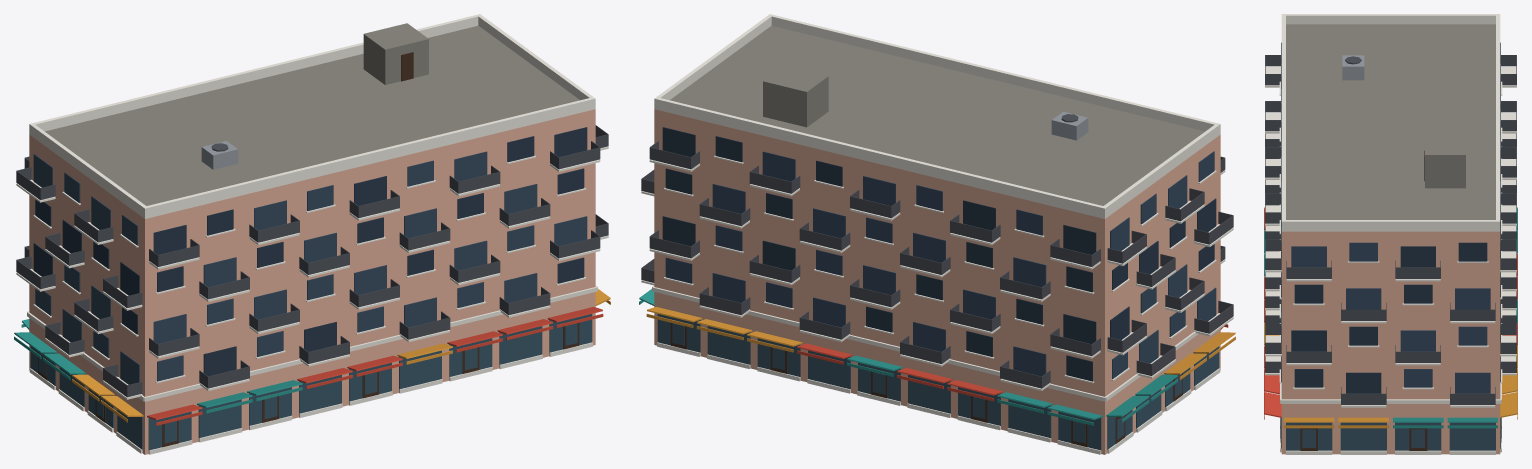
File: apt_b.glb
3 views of the same model, side by side, from view 1: azimuth 30°, elevation 25°; view 2: azimuth 150°, elevation 25°; view 3: azimuth 270°, elevation 25° (orthographic). The views are drawn at different scales.
Visible parts, largest first — view 1: apt_b; view 2: apt_b; view 3: apt_b.
Boxes of the visible parts, x1,y1,x2,y2 form: apt_b: (14, 14, 610, 454); apt_b: (639, 14, 1235, 454); apt_b: (1264, 14, 1517, 454).
Size of what is drawn, in the model's own units: 38.61 by 20.8 by 18.61.
